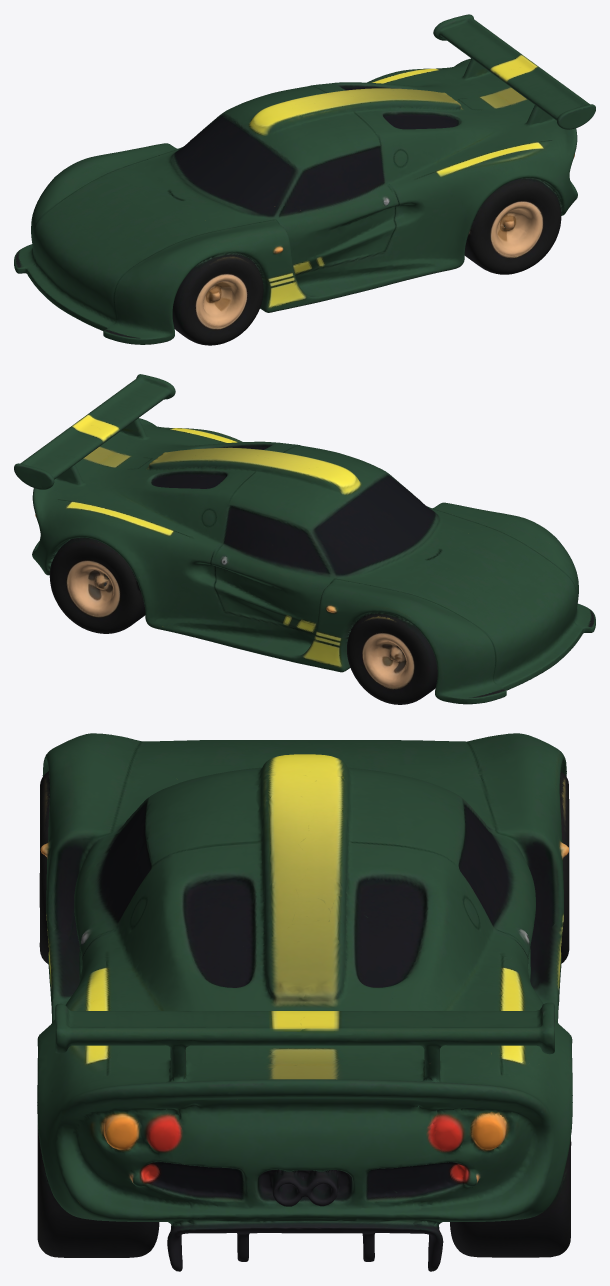
The model's file is cars_magnolia_beethoven.glb.
The picture shows the model from 3 angles, top to bottom: view 1: azimuth 30°, elevation 25°; view 2: azimuth 150°, elevation 25°; view 3: azimuth 270°, elevation 25°; orthographic projection. The views are drawn at different scales.
Bounding box in the file's own units: 1.9 × 0.5947 × 0.9121.
1 material, 1 textured.
